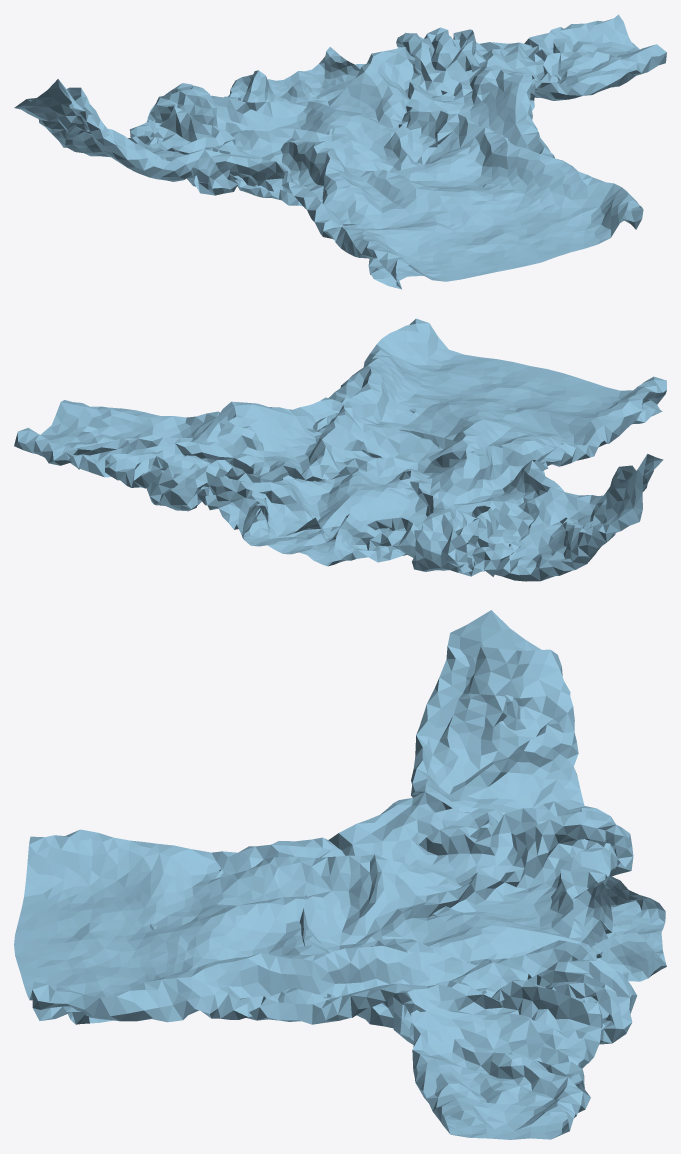
Rendered from frame_03.glb.
The picture shows the model from 3 angles, top to bottom: view 1: azimuth 30°, elevation 25°; view 2: azimuth 150°, elevation 25°; view 3: azimuth 270°, elevation 25°; orthographic projection. The views are drawn at different scales.
Visible parts, largest first — view 1: frame_03.obj; view 2: frame_03.obj; view 3: frame_03.obj.
Boxes of the visible parts, left/top/right/bottom form: frame_03.obj: left=14, top=14, right=666, bottom=289; frame_03.obj: left=14, top=318, right=666, bottom=581; frame_03.obj: left=14, top=610, right=666, bottom=1139.
Size of the model in its own units: 1.89 by 0.3797 by 1.35.
